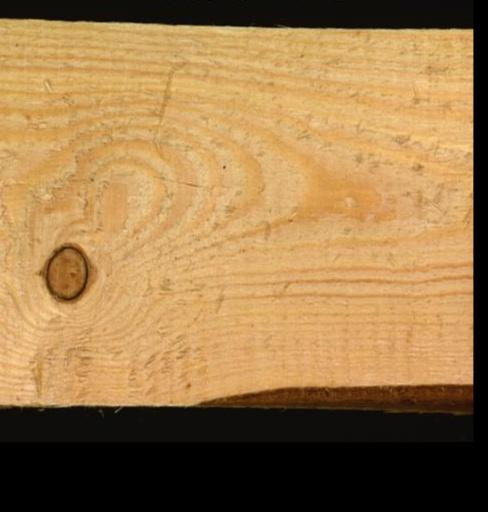dry_knot: (41, 242, 89, 301)
split: (150, 175, 208, 187)
wave: (185, 383, 471, 410)
